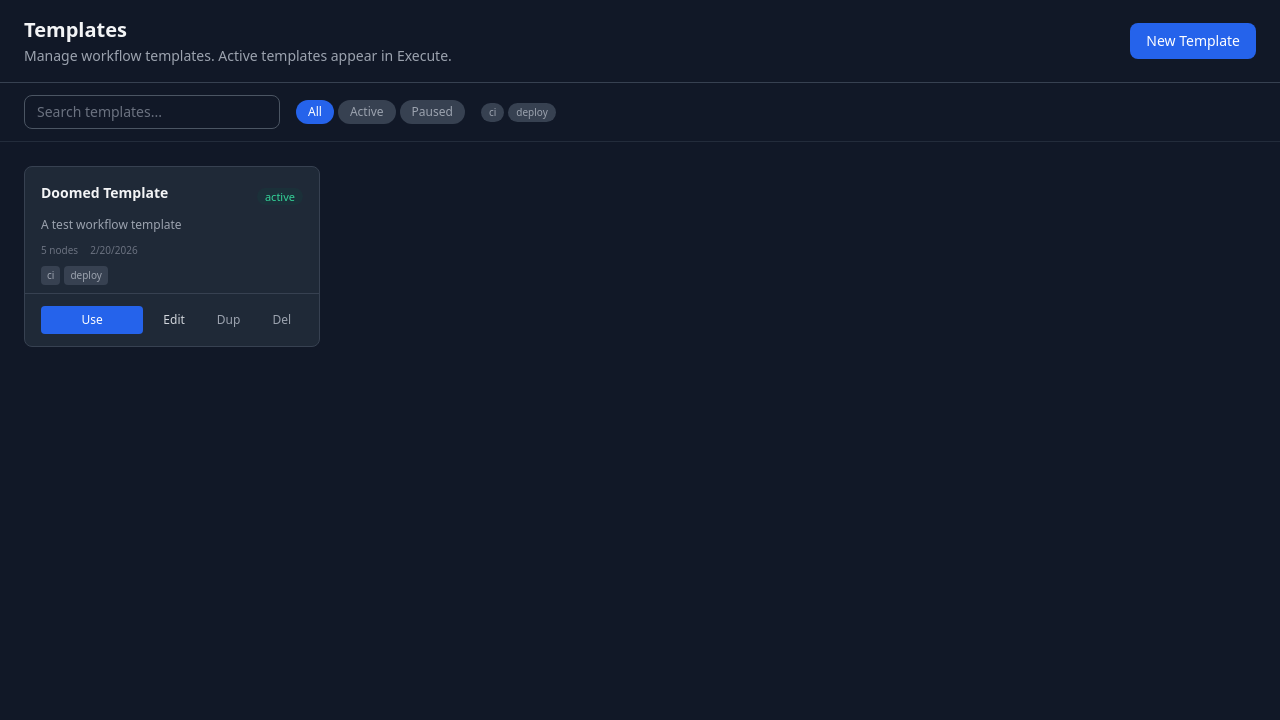
Scenario: TemplateManagerPage › delete with confirmation › shows a confirmation dialog when Del button is clicked
Expected: the heading "Doomed Template" is shown, [41,183,168,202]
Click the button "Del": click(282, 320) [260,306,303,334]
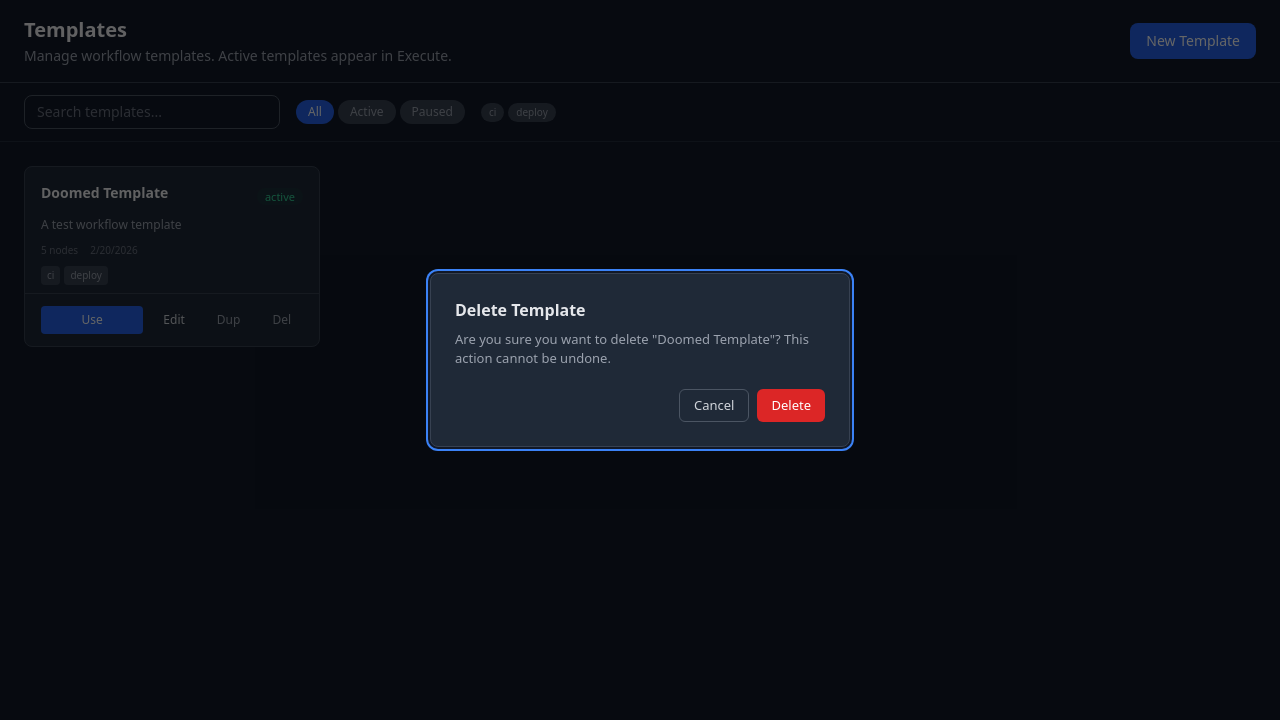
Result: the dialog is shown at [430,273,850,447]
